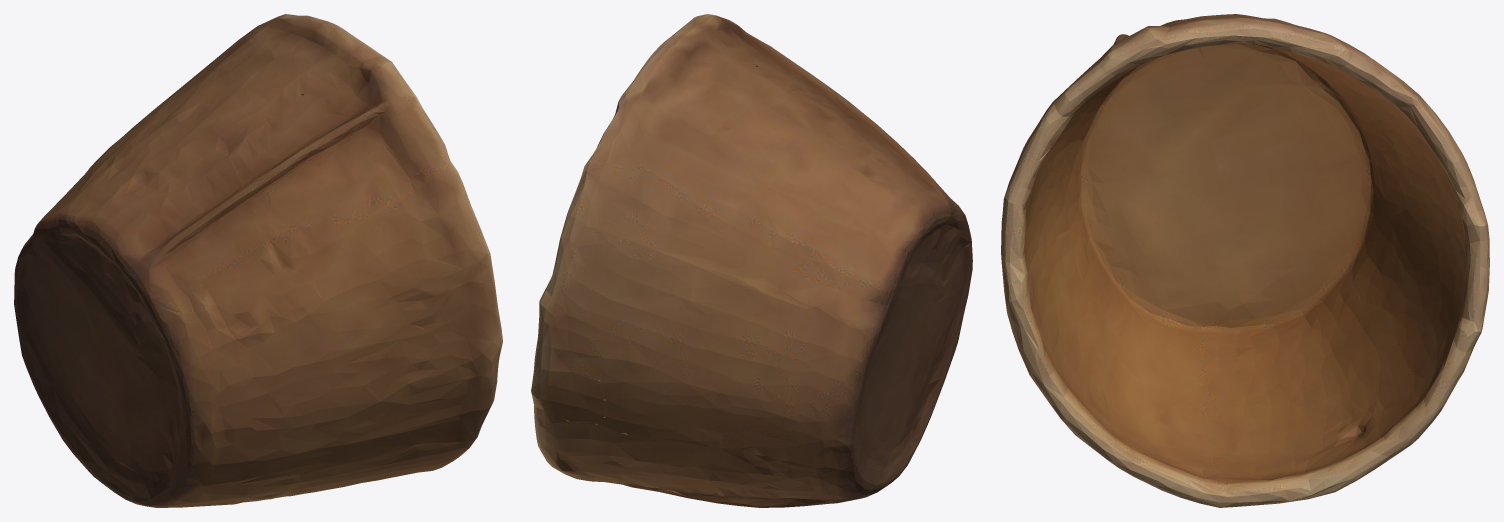
File: large_woven_basket_hanging_on_right_wall_000.glb
The picture shows the model from 3 angles, left to right: view 1: azimuth 30°, elevation 25°; view 2: azimuth 150°, elevation 25°; view 3: azimuth 270°, elevation 25°; orthographic projection. The views are drawn at different scales.
Parts seen in each view (by area): view 1: large_woven_basket_hanging_on_right_wall_000.obj; view 2: large_woven_basket_hanging_on_right_wall_000.obj; view 3: large_woven_basket_hanging_on_right_wall_000.obj.
Boxes of the visible parts, bbox=[...] form: large_woven_basket_hanging_on_right_wall_000.obj: bbox=[14, 14, 502, 507]; large_woven_basket_hanging_on_right_wall_000.obj: bbox=[531, 14, 972, 507]; large_woven_basket_hanging_on_right_wall_000.obj: bbox=[1001, 14, 1489, 507].
Size of the model in its own units: 0.1813 by 0.2346 by 0.2264.
1 material, 1 textured.
